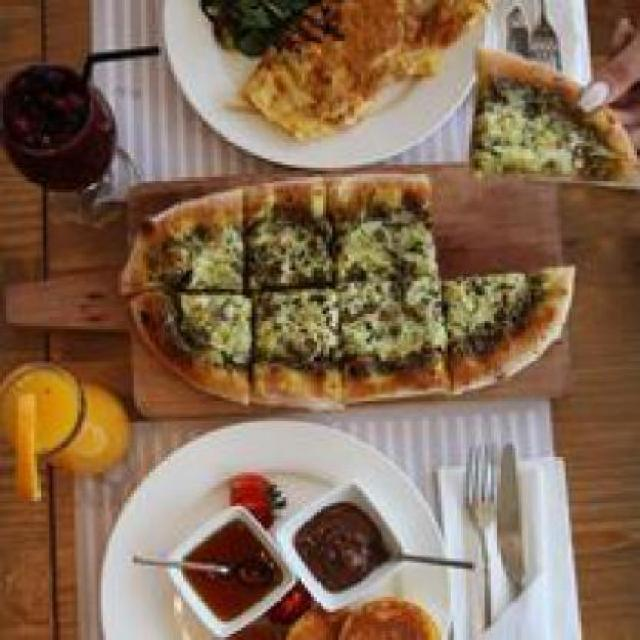pancakes: (283, 584, 451, 638)
